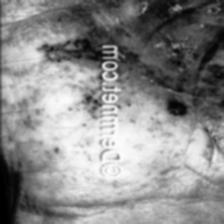Non-Cancerous Skin Condition: (125, 0, 217, 143), (22, 5, 90, 126)
